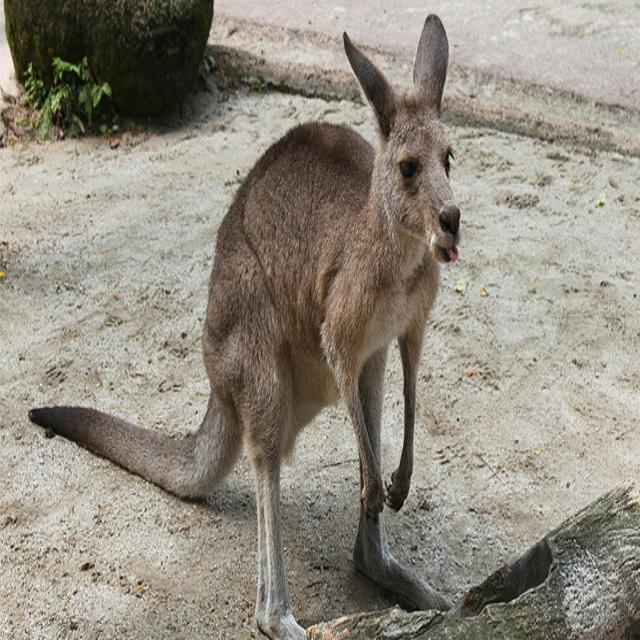kangaroo: (199, 14, 471, 630)
